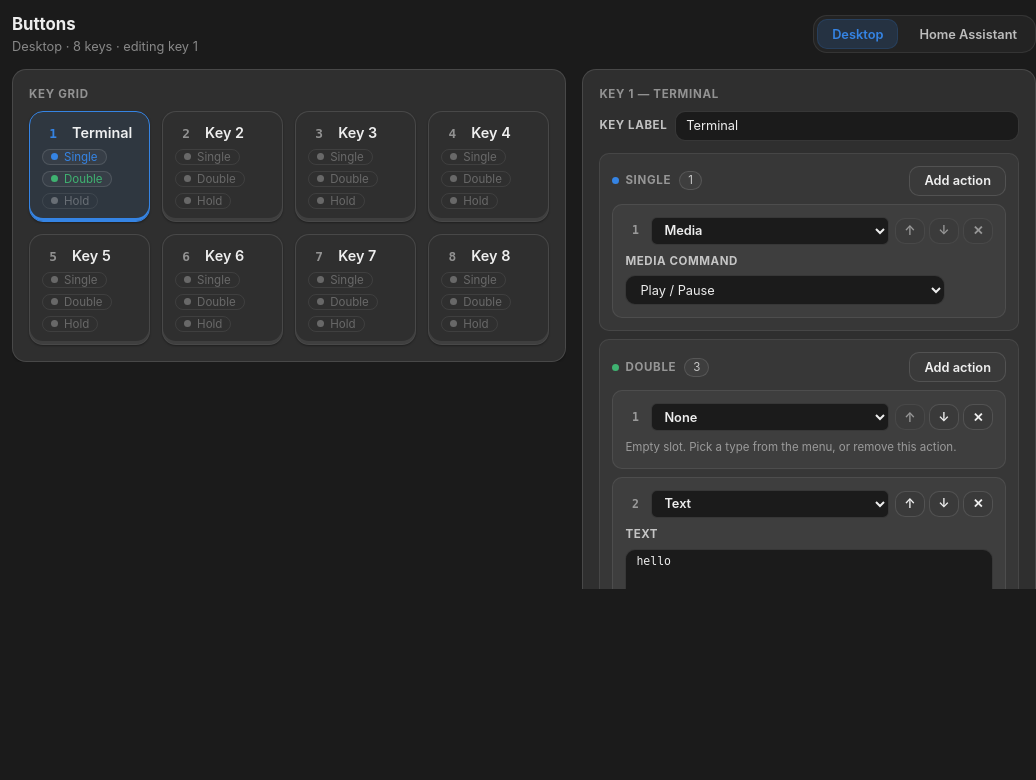
Test: label editor › surfaces a rejected label command and keeps the stored label
This screenshot has width=1036, height=780.
Replace the text in the field with test id "action-label" with "Shell": (847,126) [675,111,1019,141]
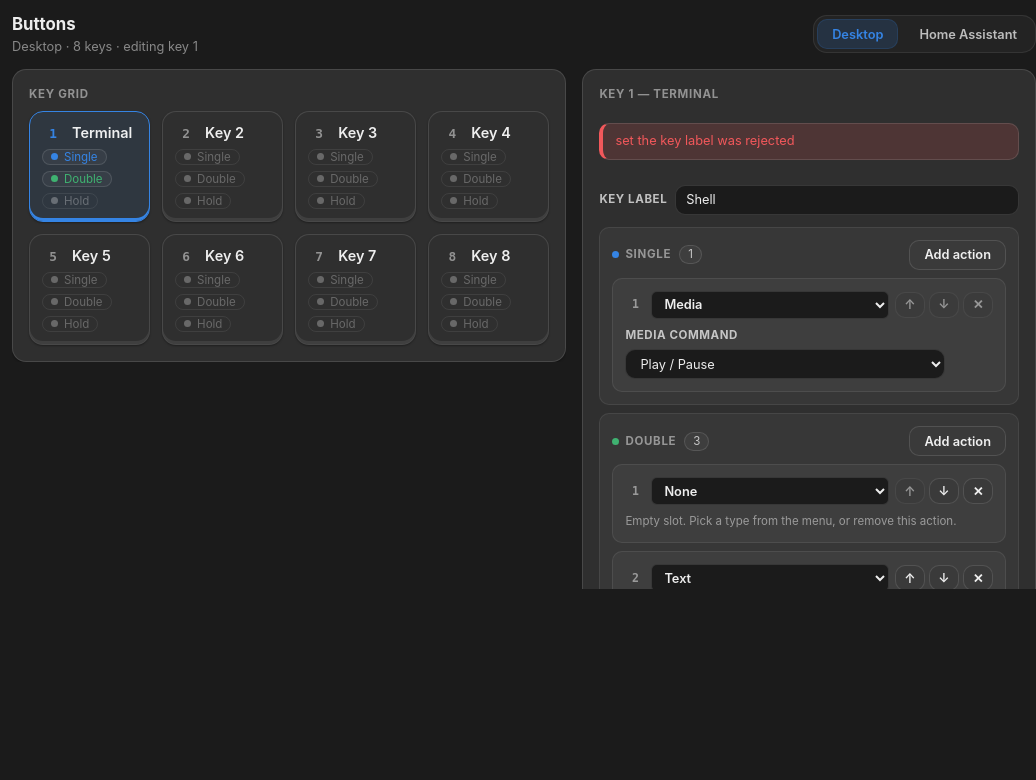
Expected: the text "Terminal" is shown, [72,124,132,141]
Result: the message with test id "action-error" shows "label" at [615,133,794,148]
